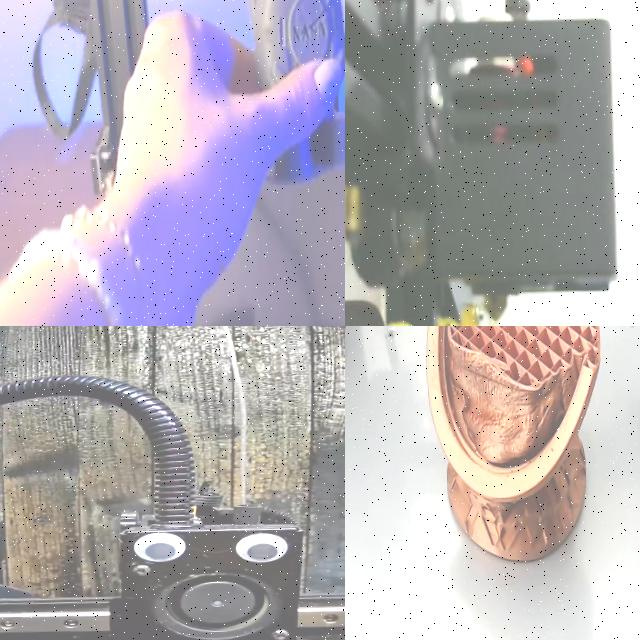spaghetti: (364, 296, 514, 326)
